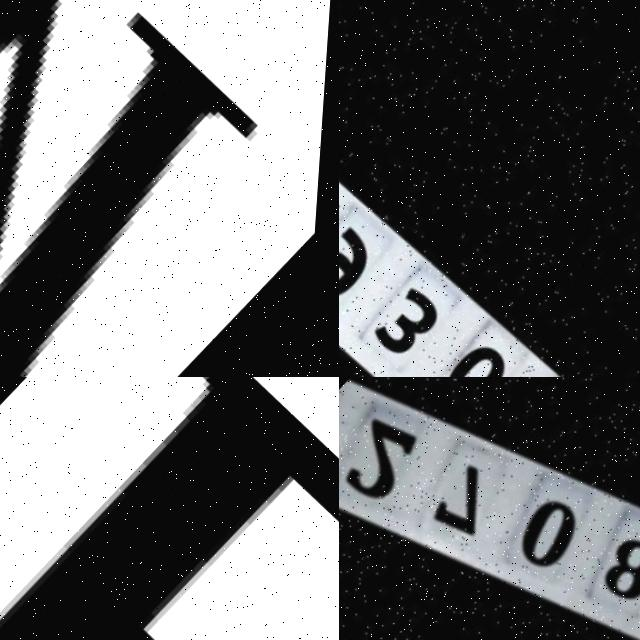0: (474, 461, 620, 605), (411, 309, 544, 377), (339, 389, 366, 500)
2: (339, 387, 454, 537)
3: (345, 261, 468, 377)
7: (393, 429, 534, 568)
8: (563, 504, 640, 633)
9: (339, 196, 408, 331)
E: (0, 377, 339, 640)
M: (0, 0, 308, 377)
